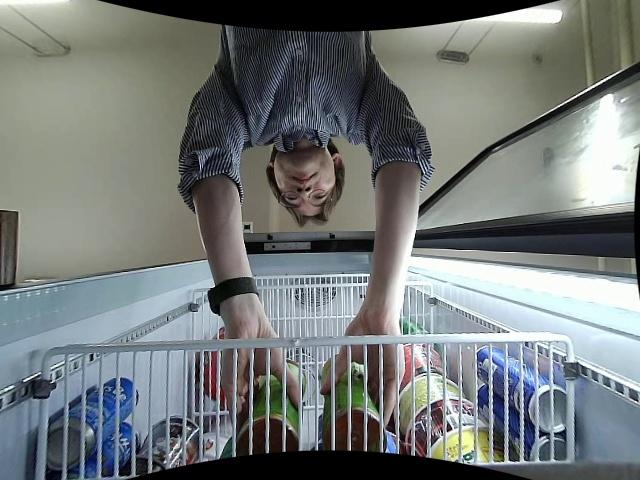00_hand: (320, 309, 405, 430), (220, 331, 298, 423)
19_17cha: (321, 354, 388, 454), (237, 360, 304, 456)
